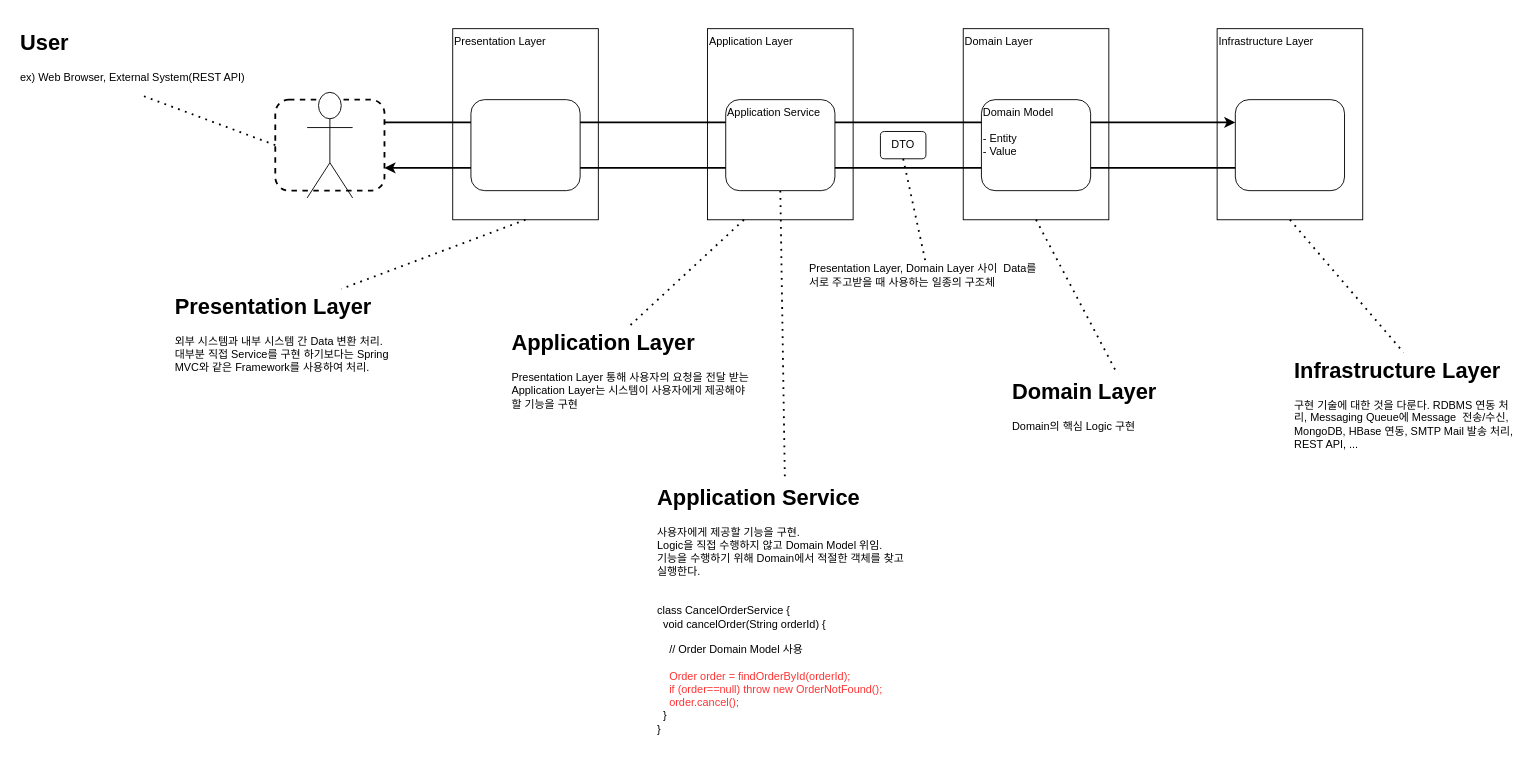
Some shapes in this 1532 by 759 pixel diagram are drawn without their labels. The centre of each missing label's shape, as x and y in pixels:
"Service - Controller - Converter,ORM - Json - ..." belongs at [525,145].
"Service - Maria DB - SMPT Server - Kafka - ..." belongs at [1289,145].
"User" belongs at [329,144].
